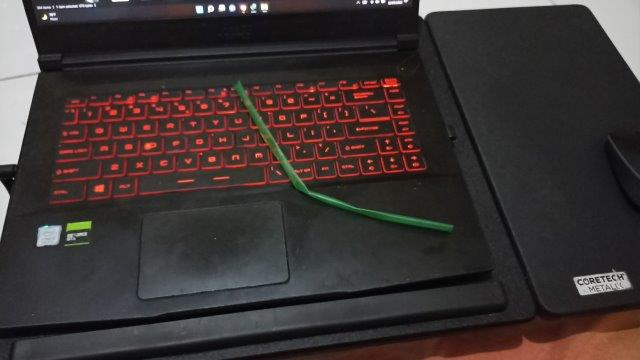sedotan: (235, 84, 450, 228)
